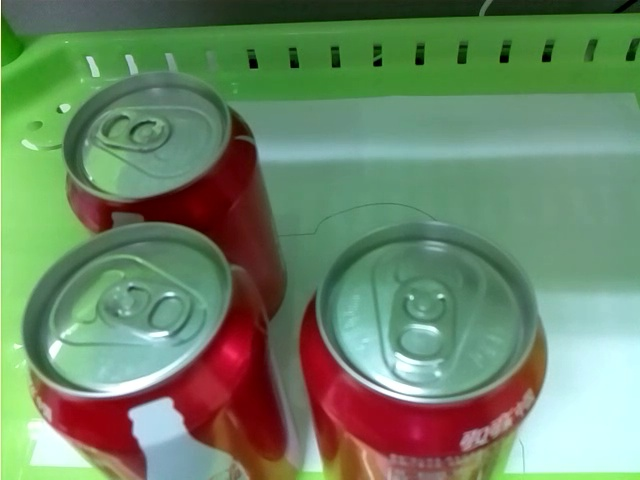cocacola: (18, 222, 300, 480), (294, 220, 551, 480), (65, 71, 288, 323)
